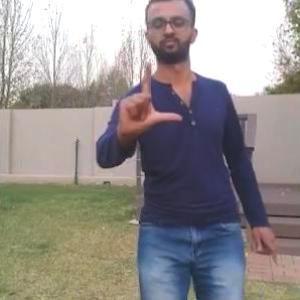land_hand: (113, 55, 183, 138)
